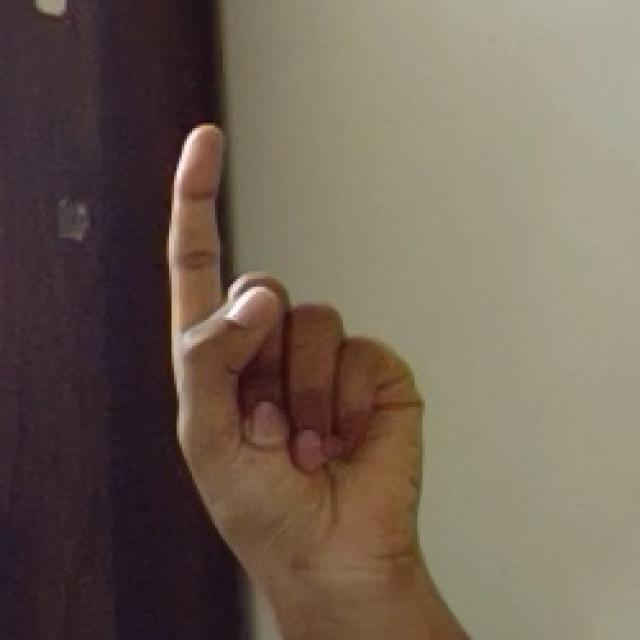Numeric-1: (173, 126, 423, 584)
